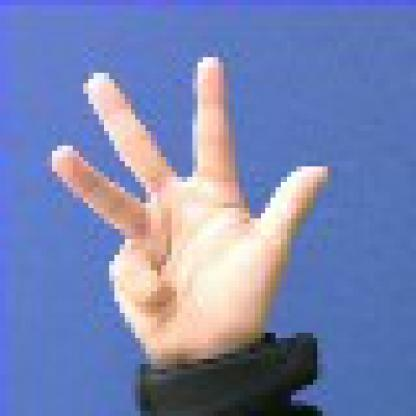nine: (20, 34, 363, 380)
